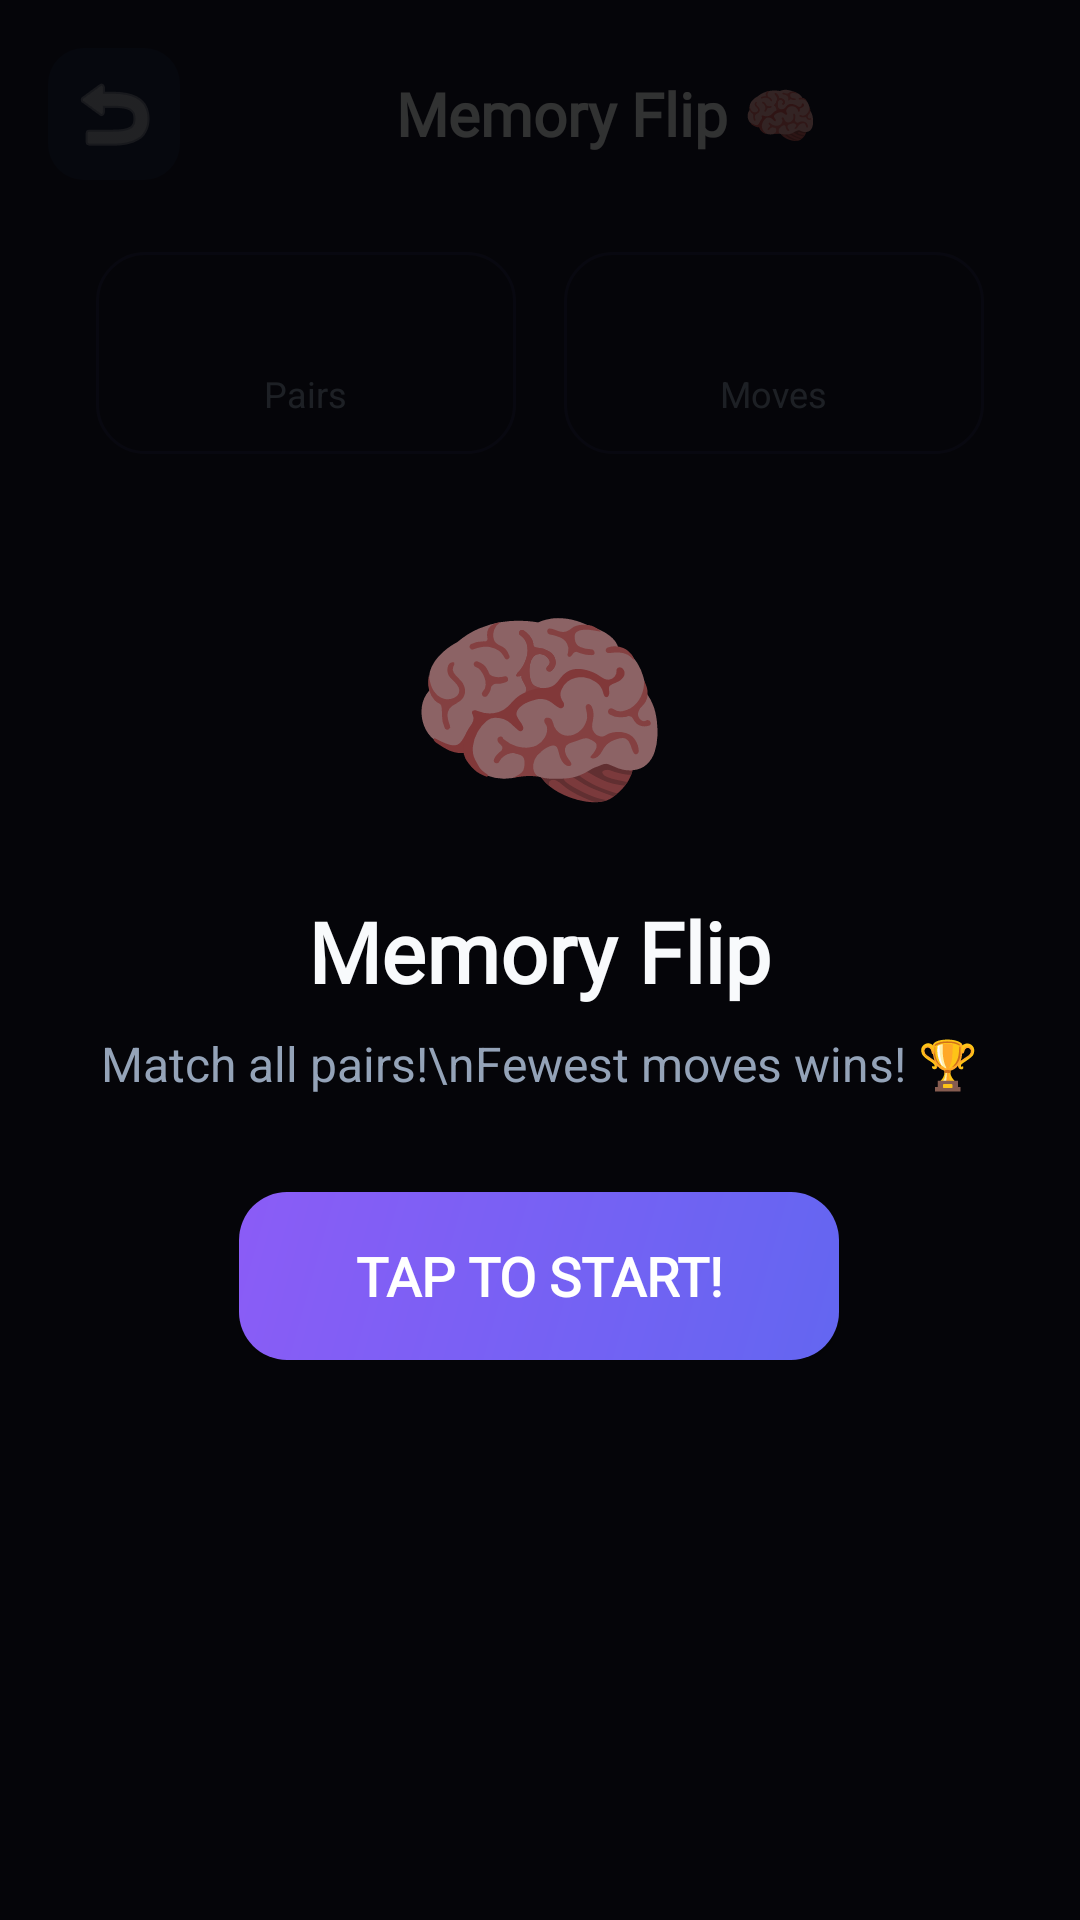

Where icons sit on this 1080 × 1920 app screen, as bbox(x1, y1, x2, y2):
Back: bbox(83, 86, 147, 144)
